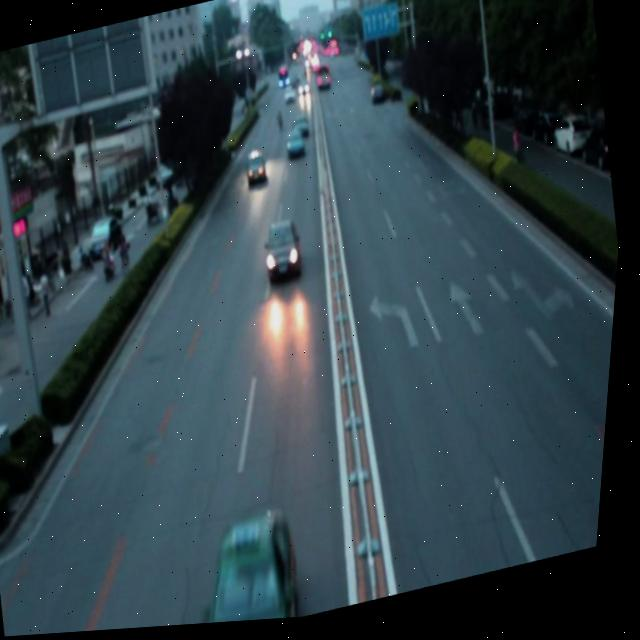car: (200, 507, 317, 628), (261, 218, 311, 288), (244, 150, 271, 189)
